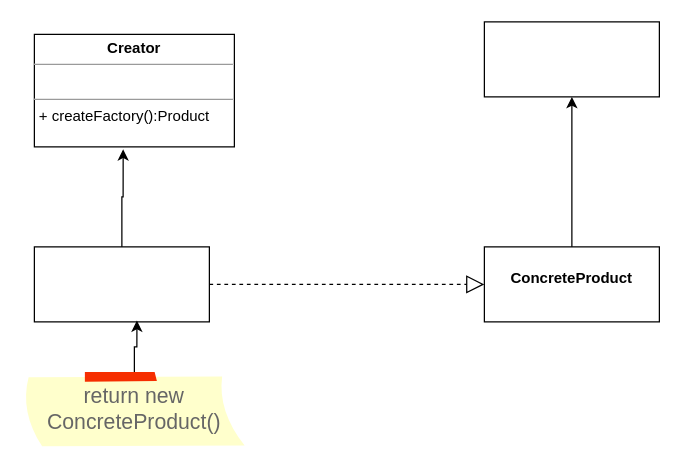
Image size: 681x469. Some labels were removed from this diagram. Here are the shapes that lost their labels. From the top down, the box of each, then its label:
(483, 21, 659, 97): Product
(33, 246, 209, 322): ConcreteCreator
